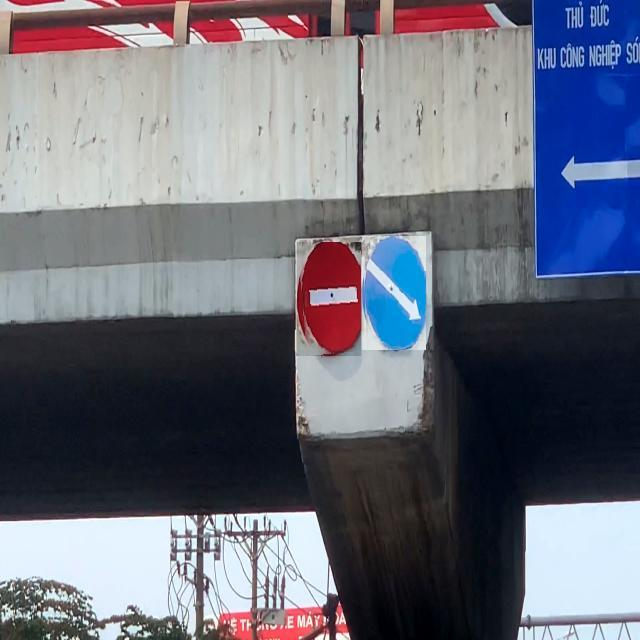P-102: (297, 242, 361, 356)
R-302a: (362, 236, 426, 350)
